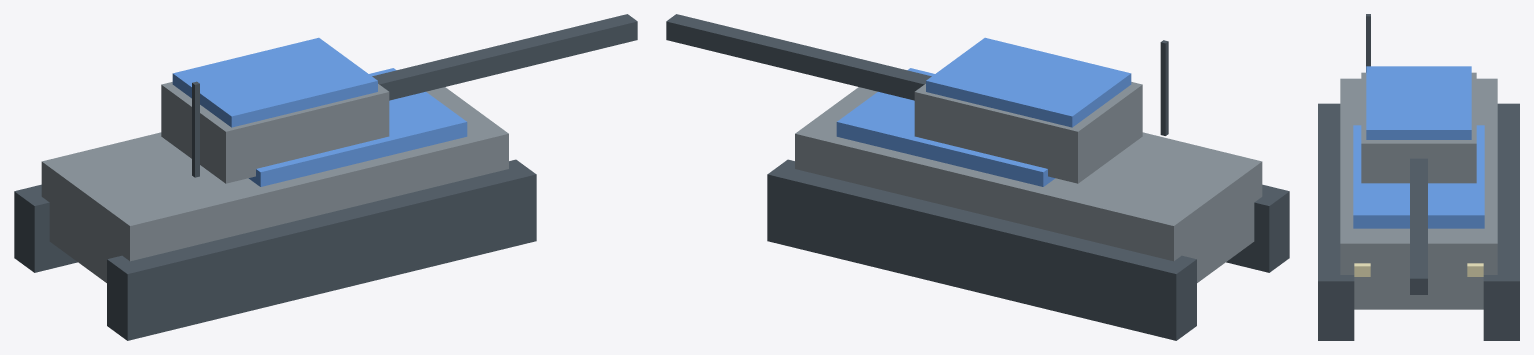
Rendered from mobiele_artillerie.glb.
The picture shows the model from 3 angles, left to right: view 1: azimuth 30°, elevation 25°; view 2: azimuth 150°, elevation 25°; view 3: azimuth 270°, elevation 25°; orthographic projection. The views are drawn at different scales.
Visible parts, largest first — view 1: hull_dark_LOD0, hull_steel_LOD0, turret_steel_LOD0, turret_team_LOD0, barrel_dark_LOD0, hull_team_LOD0; view 2: hull_dark_LOD0, hull_steel_LOD0, turret_steel_LOD0, turret_team_LOD0, barrel_dark_LOD0, hull_team_LOD0; view 3: hull_steel_LOD0, hull_dark_LOD0, turret_team_LOD0, hull_team_LOD0, turret_steel_LOD0, barrel_dark_LOD0, hull_lamp_LOD0.
Boxes of the visible parts, <box> form: hull_dark_LOD0: <box>14,81,536,340</box>; hull_steel_LOD0: <box>41,87,508,282</box>; turret_steel_LOD0: <box>161,82,389,183</box>; turret_team_LOD0: <box>172,37,377,127</box>; barrel_dark_LOD0: <box>372,14,637,100</box>; hull_team_LOD0: <box>248,68,467,186</box>; hull_dark_LOD0: <box>767,40,1289,340</box>; hull_steel_LOD0: <box>795,87,1262,282</box>; turret_steel_LOD0: <box>914,82,1142,183</box>; turret_team_LOD0: <box>926,37,1131,127</box>; barrel_dark_LOD0: <box>666,14,931,100</box>; hull_team_LOD0: <box>836,68,1055,186</box>; hull_steel_LOD0: <box>1340,78,1497,309</box>; hull_dark_LOD0: <box>1318,14,1519,340</box>; turret_team_LOD0: <box>1366,66,1471,139</box>; hull_team_LOD0: <box>1353,125,1484,228</box>; turret_steel_LOD0: <box>1361,72,1476,183</box>; barrel_dark_LOD0: <box>1410,158,1427,294</box>; hull_lamp_LOD0: <box>1354,263,1483,276</box>.
Size of what is drawn, in the model's own units: 8.87 by 3.22 by 3.1.
